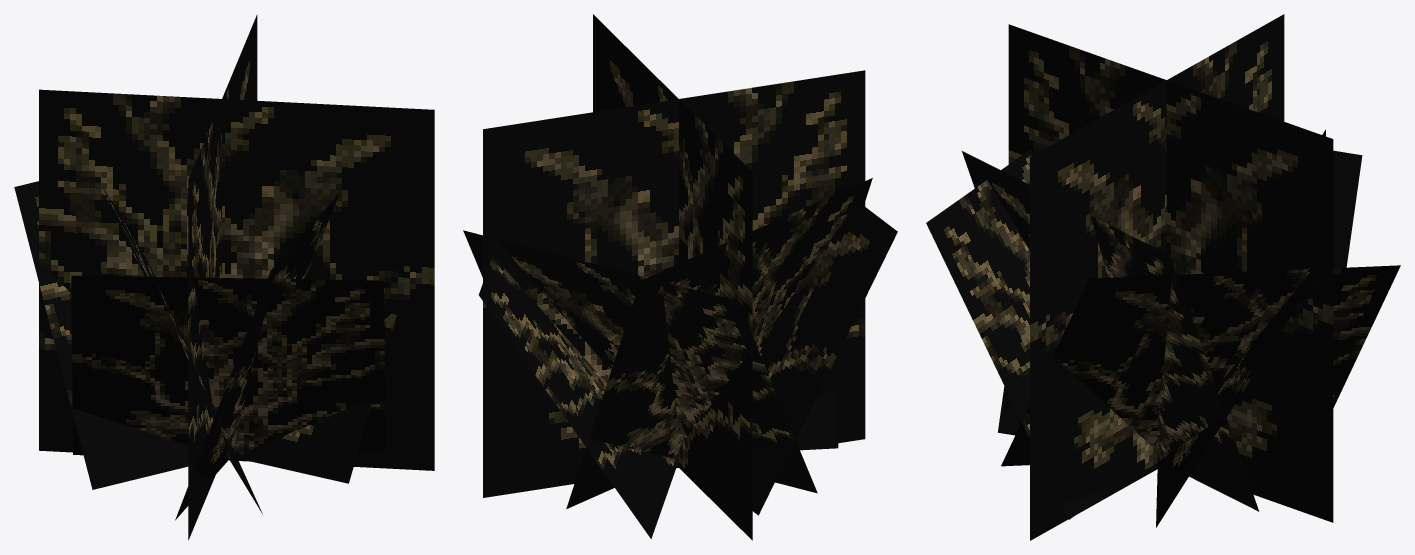
Rendered from sbushnak_1.obj.
3 renders of one model, left to right at view 1: azimuth 30°, elevation 25°; view 2: azimuth 150°, elevation 25°; view 3: azimuth 270°, elevation 25°, orthographic. The views are drawn at different scales.
Visible parts, largest first — view 1: sbushnak_1; view 2: sbushnak_1; view 3: sbushnak_1.
Part boxes in pixels (box(x1,y1,x2,y2)): sbushnak_1: box(14, 14, 434, 540); sbushnak_1: box(463, 14, 897, 540); sbushnak_1: box(926, 14, 1400, 540).
Size of the model in its own units: 1.71 by 1.69 by 1.85.
